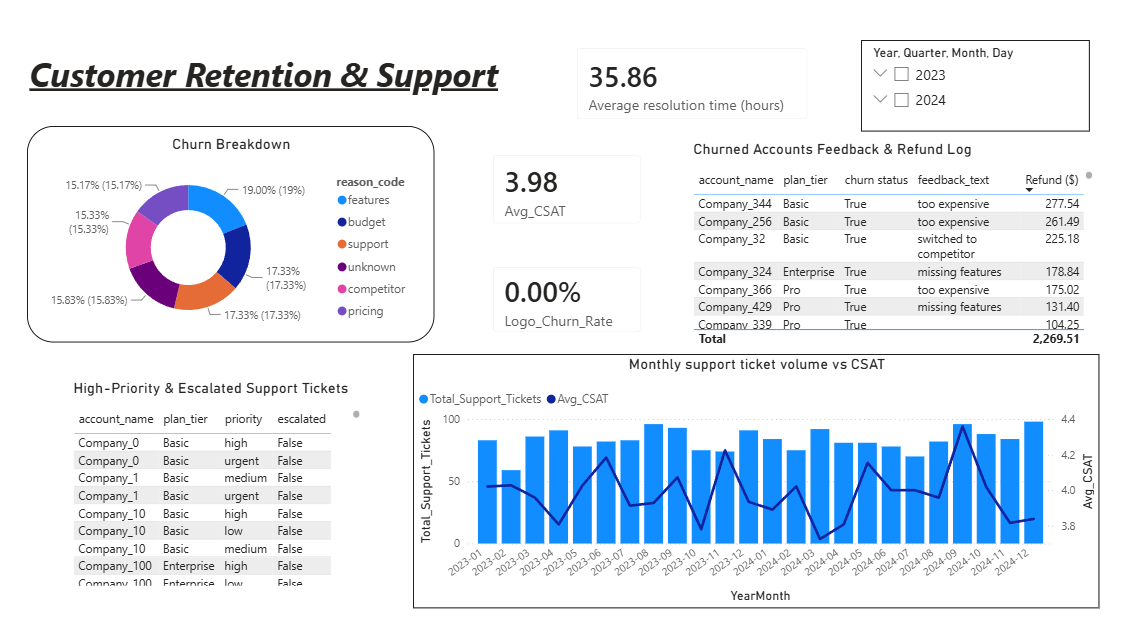

What the dashboard file says about the page in this screenshot:
{"tool":"powerbi","page":{"name":"Customer Retention & Support","canvas":[1280,720],"ordinal":2},"visuals":[{"type":"cardVisual","fields":{"Data":["_Measures.Logo_Churn_Rate"]},"box":[544,288,202.5,108.8],"z":0},{"type":"cardVisual","fields":{"Data":["_Measures.Avg_CSAT"]},"box":[544,160,202.5,112.5],"z":1000},{"type":"cardVisual","fields":{"Data":["Avg(ravenstack_support_tickets.resolution_time_hours)"]},"box":[640,38.8,296.2,115],"z":2000},{"type":"donutChart","title":"Churn Breakdown","fields":{"Category":["ravenstack_churn_events.reason_code"],"Y":["_Measures.Churn_Reason_Pct"]},"box":[32,144,462.5,246.2],"z":3000},{"type":"slicer","fields":{"Values":["Dim_Date.Date.Variation.Date Hierarchy.Year","Dim_Date.Date.Variation.Date Hierarchy.Quarter","Dim_Date.Date.Variation.Date Hierarchy.Month","Dim_Date.Date.Variation.Date Hierarchy.Day"]},"box":[980,46.2,260,103.8],"z":4000},{"type":"lineClusteredColumnComboChart","title":"Monthly support ticket volume vs CSAT","fields":{"Category":["Dim_Date.YearMonth"],"Y":["_Measures.Total_Support_Tickets"],"Y2":["_Measures.Avg_CSAT"]},"box":[470,403.8,780,288.8],"z":5000},{"type":"tableEx","title":"High-Priority & Escalated Support Tickets","fields":{"Values":["ravenstack_accounts.account_name","ravenstack_accounts.plan_tier","ravenstack_support_tickets.priority","ravenstack_support_tickets.escalation_flag"]},"box":[80,432,336,240],"z":6000},{"type":"tableEx","title":"Churned Accounts Feedback & Refund Log","fields":{"Values":["ravenstack_accounts.account_name","ravenstack_accounts.plan_tier","ravenstack_accounts.churn_flag","ravenstack_churn_events.feedback_text","Sum(ravenstack_churn_events.refund_amount_usd)"]},"box":[784,160,464,240],"z":7000},{"type":"textbox","box":[30,55,563.8,87.5],"z":8000}]}

Visuals, with their boxes in screenshot pixels (x1, y1, x2, y2), scaled from the page's 1280x720 canvas onto the 1123x632 screenshot:
cardVisual - _Measures.Logo_Churn_Rate: [x1=477, y1=253, x2=655, y2=348]
cardVisual - _Measures.Avg_CSAT: [x1=477, y1=140, x2=655, y2=239]
cardVisual - Avg(ravenstack_support_tickets.resolution_time_hours): [x1=562, y1=34, x2=821, y2=135]
"Churn Breakdown" donutChart: [x1=28, y1=126, x2=434, y2=343]
slicer - Dim_Date.Date.Variation.Date Hierarchy.Year x Dim_Date.Date.Variation.Date Hierarchy.Quarter: [x1=860, y1=41, x2=1088, y2=132]
"Monthly support ticket volume vs CSAT" lineClusteredColumnComboChart: [x1=412, y1=354, x2=1097, y2=608]
"High-Priority & Escalated Support Tickets" tableEx: [x1=70, y1=379, x2=365, y2=590]
"Churned Accounts Feedback & Refund Log" tableEx: [x1=688, y1=140, x2=1095, y2=351]
textbox: [x1=26, y1=48, x2=521, y2=125]
